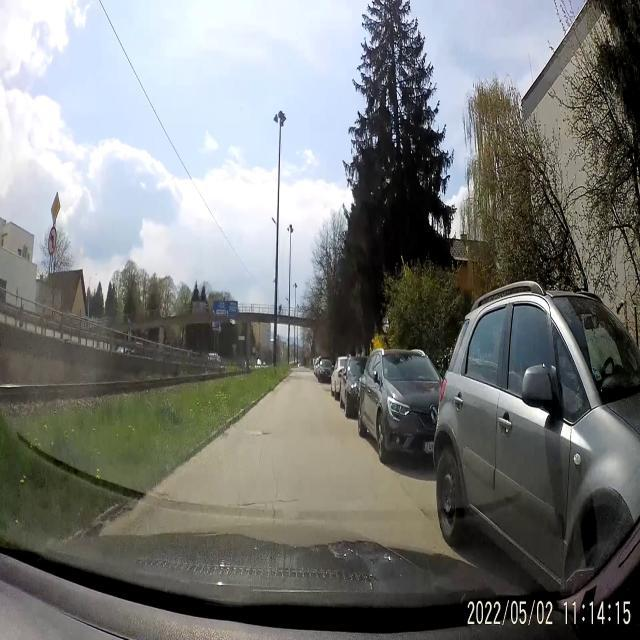Manhole: (242, 427, 262, 437)
